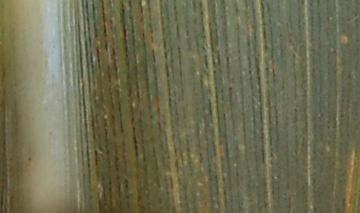tarspot: (26, 155, 33, 162)
